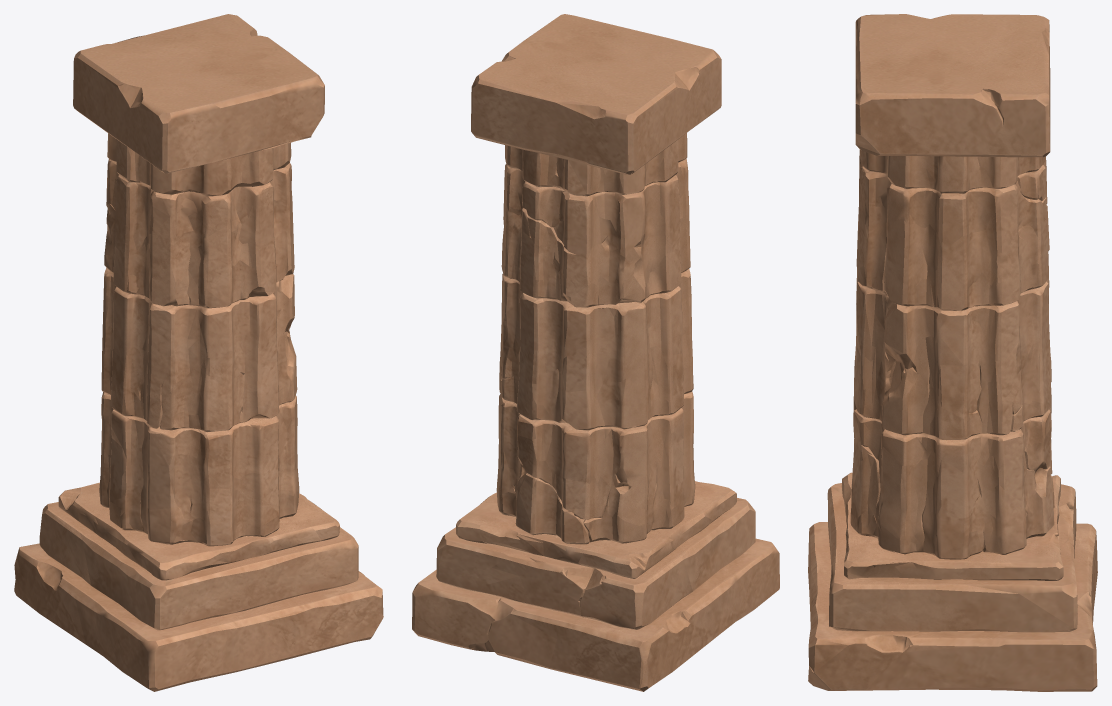
The model's file is pillar_whole.glb.
The picture shows the model from 3 angles, left to right: view 1: azimuth 30°, elevation 25°; view 2: azimuth 150°, elevation 25°; view 3: azimuth 270°, elevation 25°; orthographic projection. The views are drawn at different scales.
Bounding box in the file's own units: 0.846 × 1.9 × 0.8555.
Materials: 1 (1 with a texture image).
